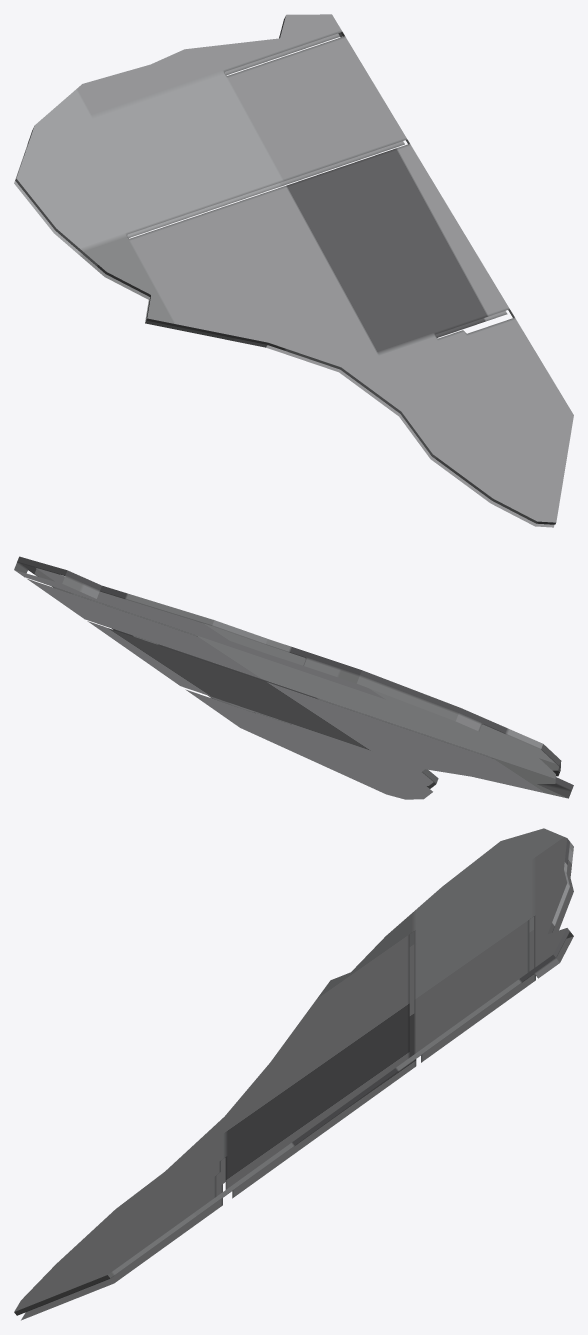
3 renders of one model, top to bottom at view 1: azimuth 30°, elevation 25°; view 2: azimuth 150°, elevation 25°; view 3: azimuth 270°, elevation 25°, orthographic. The views are drawn at different scales.
Size of the model in its own units: 0.8786 by 0.7455 by 0.9954.
